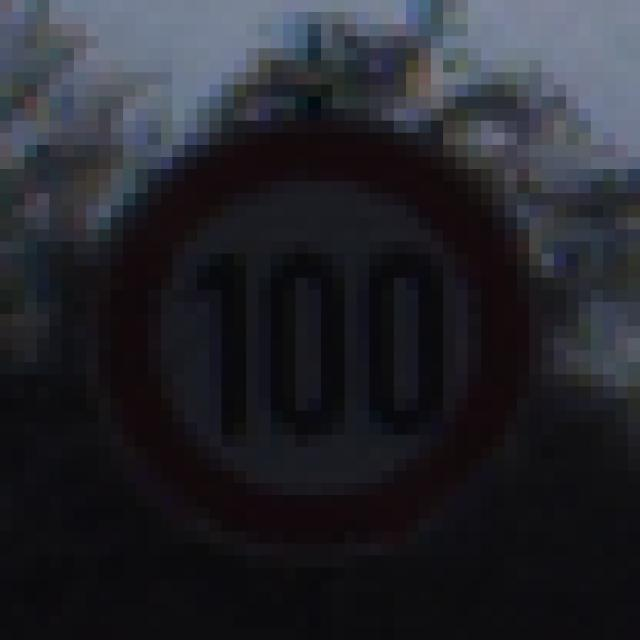Ograniczenie predkosci do 100: (105, 122, 521, 558)
